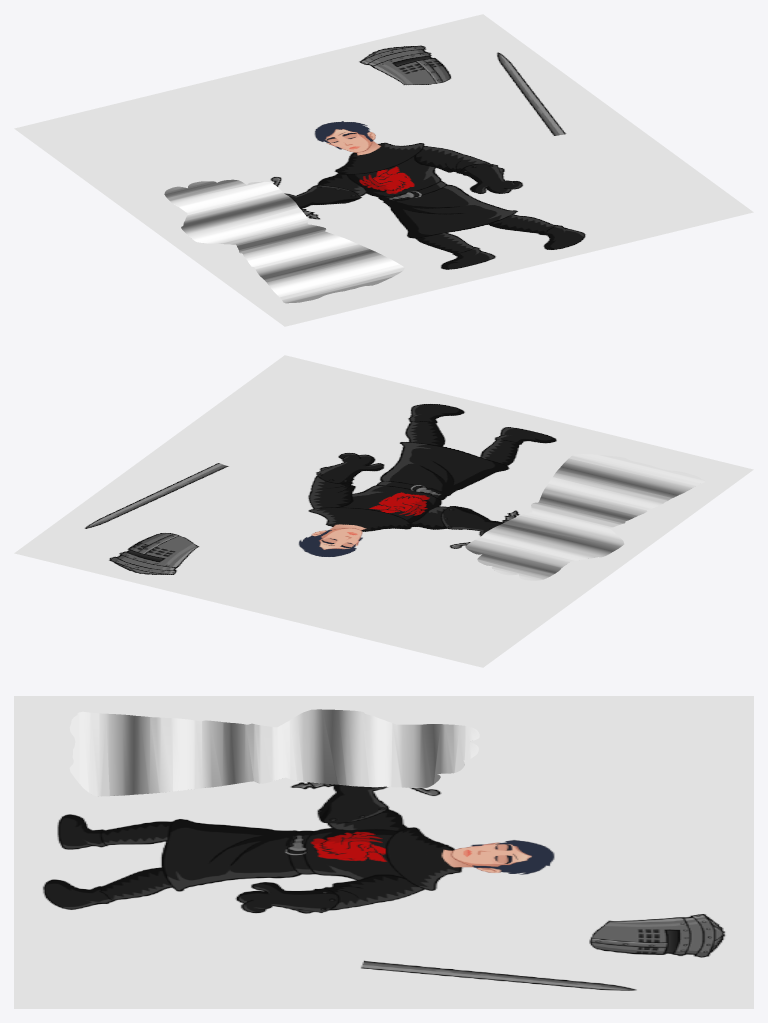
Rendered from Level 178 unroll infinity gauntlet.fbx.
3 renders of one model, top to bottom at view 1: azimuth 30°, elevation 25°; view 2: azimuth 150°, elevation 25°; view 3: azimuth 270°, elevation 25°, orthographic. The views are drawn at different scales.
Visible parts, largest first — view 1: Mesh, Blend; view 2: Mesh, Blend; view 3: Mesh, Blend.
Boxes of the visible parts, <box> form: Mesh: <box>14,14,753,326</box>; Blend: <box>164,179,404,303</box>; Mesh: <box>14,355,753,667</box>; Blend: <box>465,454,704,580</box>; Mesh: <box>14,696,753,1008</box>; Blend: <box>69,709,479,796</box>.
Size of the model in its own units: 2400 by 1 by 2400.
